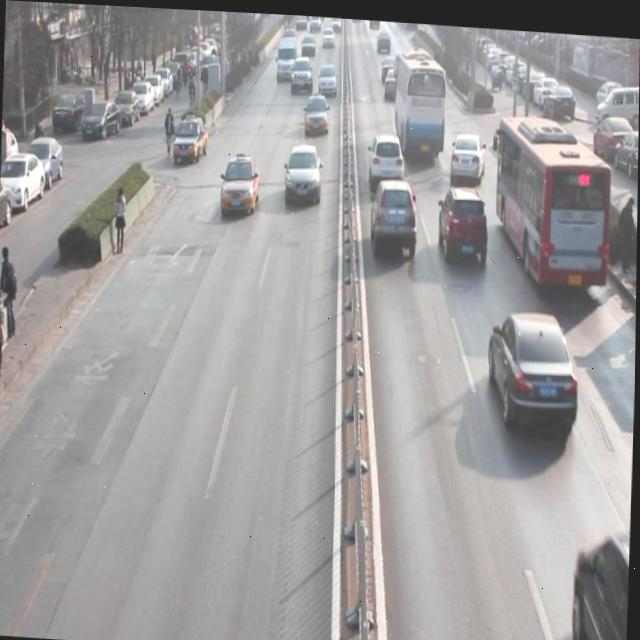car: (487, 301, 581, 435), (435, 179, 490, 263), (367, 173, 421, 257), (219, 151, 261, 216), (284, 138, 324, 205), (368, 129, 405, 189), (170, 113, 211, 160), (450, 126, 486, 179), (304, 89, 330, 135), (289, 53, 314, 93), (317, 54, 338, 93), (384, 63, 398, 96)
truck: (274, 36, 300, 80)
van: (493, 110, 611, 286), (391, 43, 446, 153)
